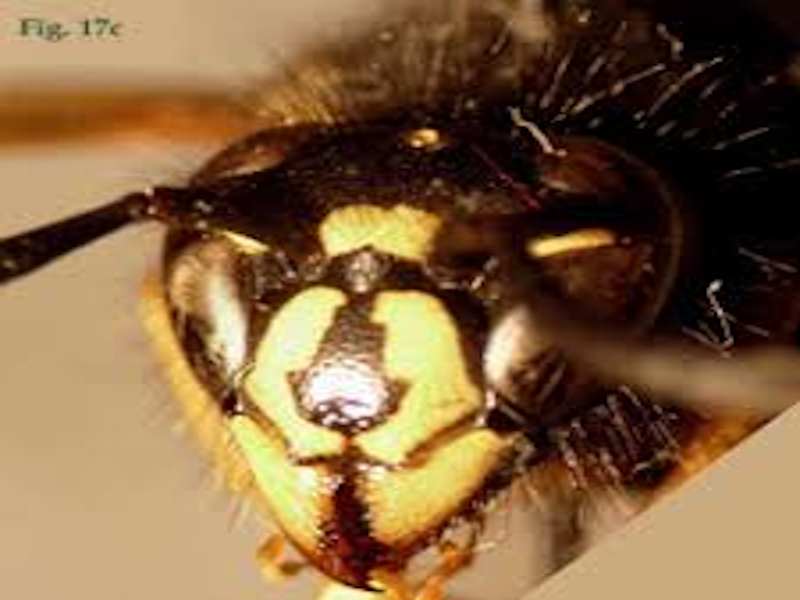chax: (108, 49, 752, 587)
